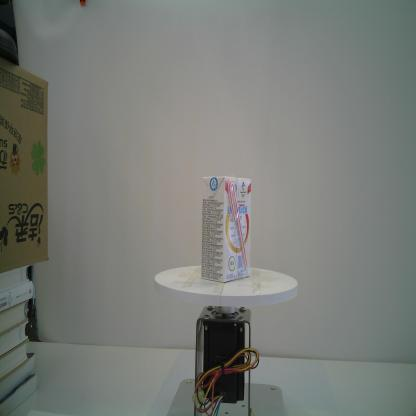Milk: (200, 176, 251, 284)
